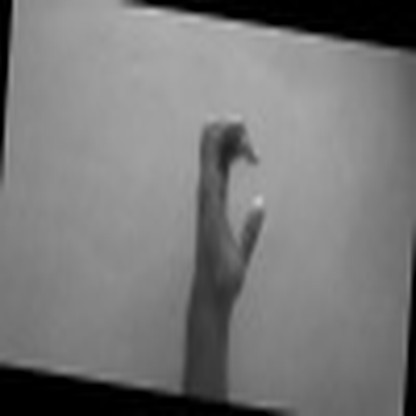c: (187, 102, 273, 305)
